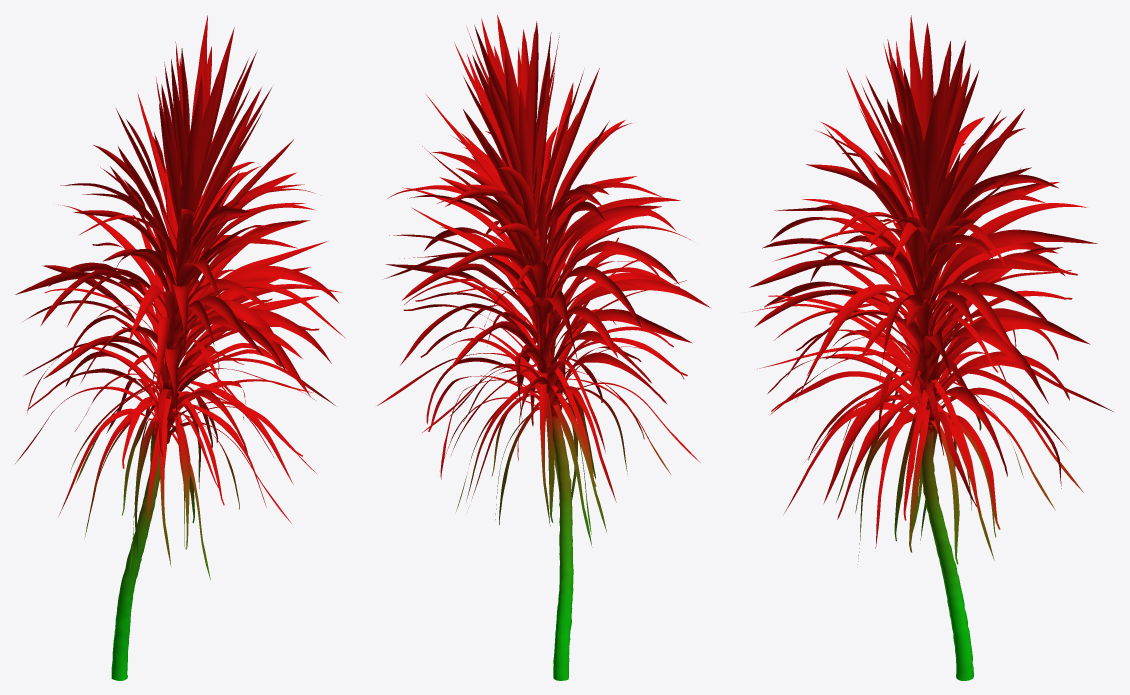
Rendered from Var2_LOD0.fbx.
3 views of the same model, side by side, from view 1: azimuth 30°, elevation 25°; view 2: azimuth 150°, elevation 25°; view 3: azimuth 270°, elevation 25° (orthographic). The views are drawn at different scales.
Parts seen in each view (by area): view 1: _1k4x_Var2_LOD0; view 2: _1k4x_Var2_LOD0; view 3: _1k4x_Var2_LOD0.
Part boxes in pixels (x1,y1,x2,y2): _1k4x_Var2_LOD0: (15,15,345,680); _1k4x_Var2_LOD0: (377,15,711,680); _1k4x_Var2_LOD0: (749,15,1113,680).
Bounding box in the file's own units: 80.27 × 169 × 83.68.
